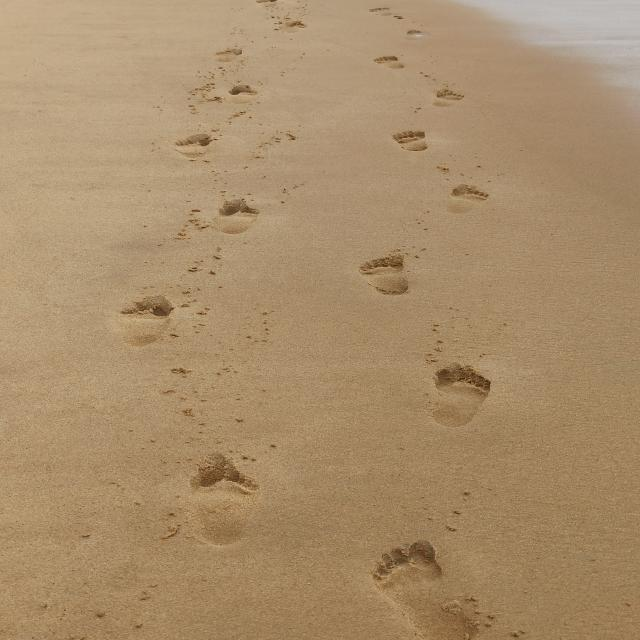human_foot_print: (98, 15, 510, 640)
